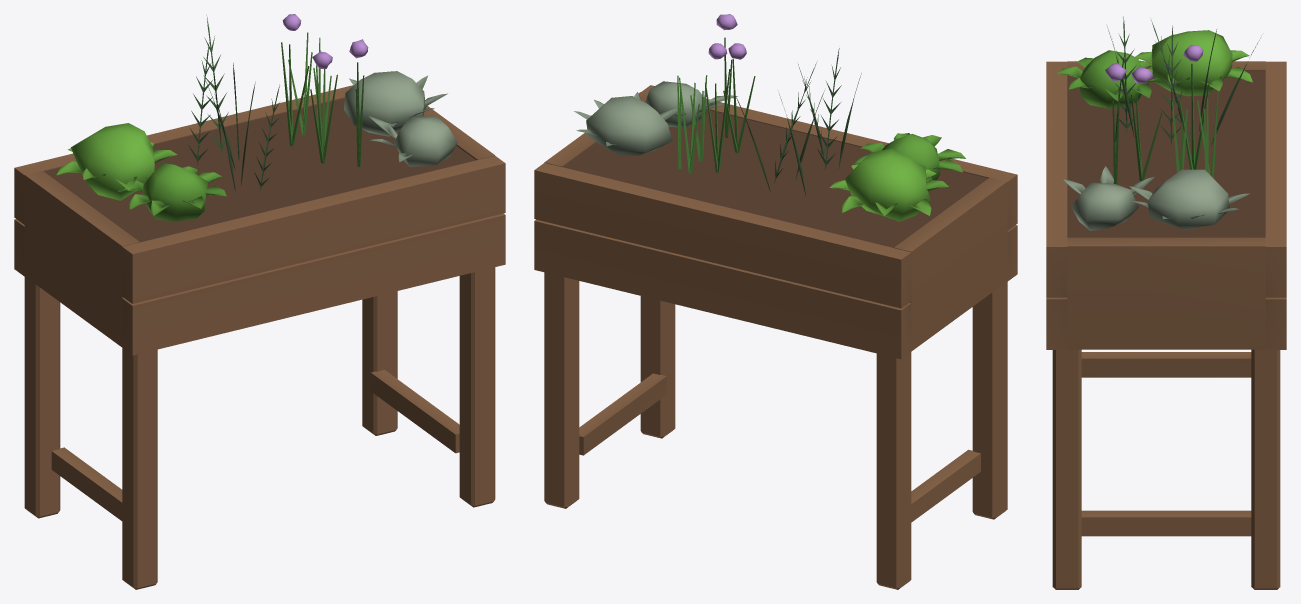
The model's file is herbs.glb.
3 renders of one model, left to right at view 1: azimuth 30°, elevation 25°; view 2: azimuth 150°, elevation 25°; view 3: azimuth 270°, elevation 25°, orthographic. The views are drawn at different scales.
Parts seen in each view (by area): view 1: herbs, sprigs; view 2: herbs, sprigs; view 3: herbs, sprigs.
Part boxes in pixels (left/top/right/bottom): herbs: left=14, top=14, right=505, bottom=589; sprigs: left=56, top=123, right=177, bottom=200; herbs: left=534, top=14, right=1017, bottom=589; sprigs: left=829, top=148, right=948, bottom=221; herbs: left=1046, top=16, right=1286, bottom=589; sprigs: left=1135, top=30, right=1252, bottom=96.
Bounding box in the file's own units: 0.84 × 1.01 × 0.46.
